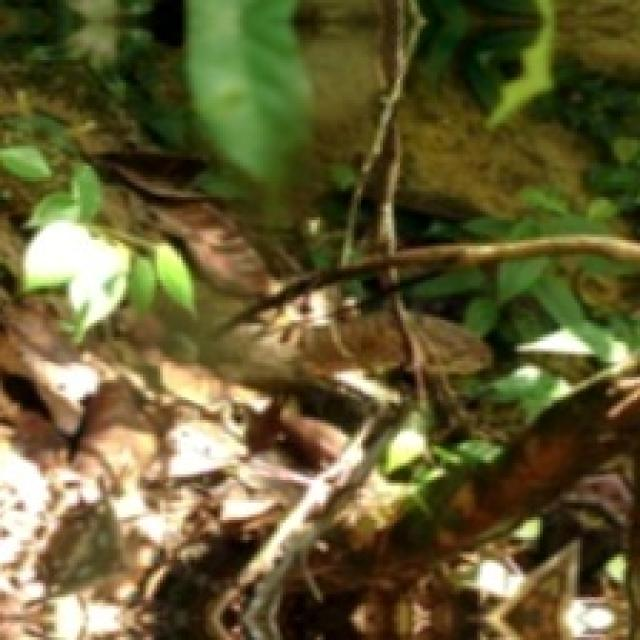king cobra: (94, 151, 409, 391)
